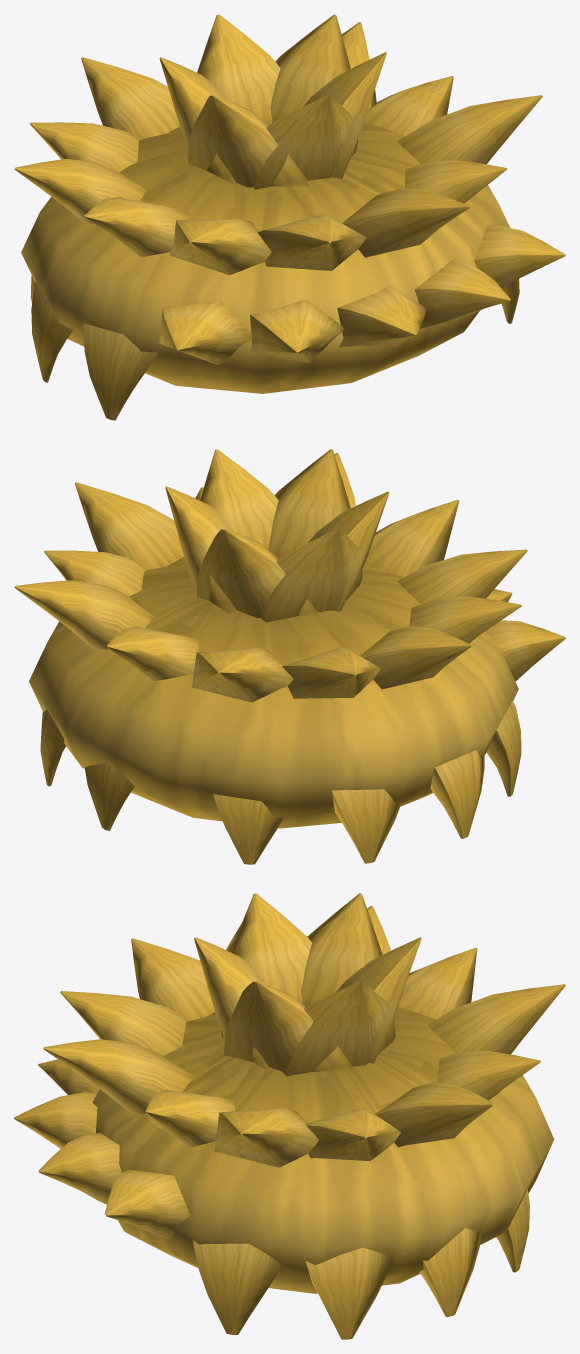
Rendered from spiky_blonde.glb.
The picture shows the model from 3 angles, top to bottom: view 1: azimuth 30°, elevation 25°; view 2: azimuth 150°, elevation 25°; view 3: azimuth 270°, elevation 25°; orthographic projection. The views are drawn at different scales.
Visible parts, largest first — view 1: hair_spiky_blonde; view 2: hair_spiky_blonde; view 3: hair_spiky_blonde.
Boxes of the visible parts, x1,y1,x2,y2 form: hair_spiky_blonde: [14, 14, 565, 420]; hair_spiky_blonde: [14, 449, 565, 864]; hair_spiky_blonde: [14, 893, 565, 1339].
Bounding box in the file's own units: 1.48 × 0.9173 × 1.48.
Materials: 1 (1 with a texture image).
